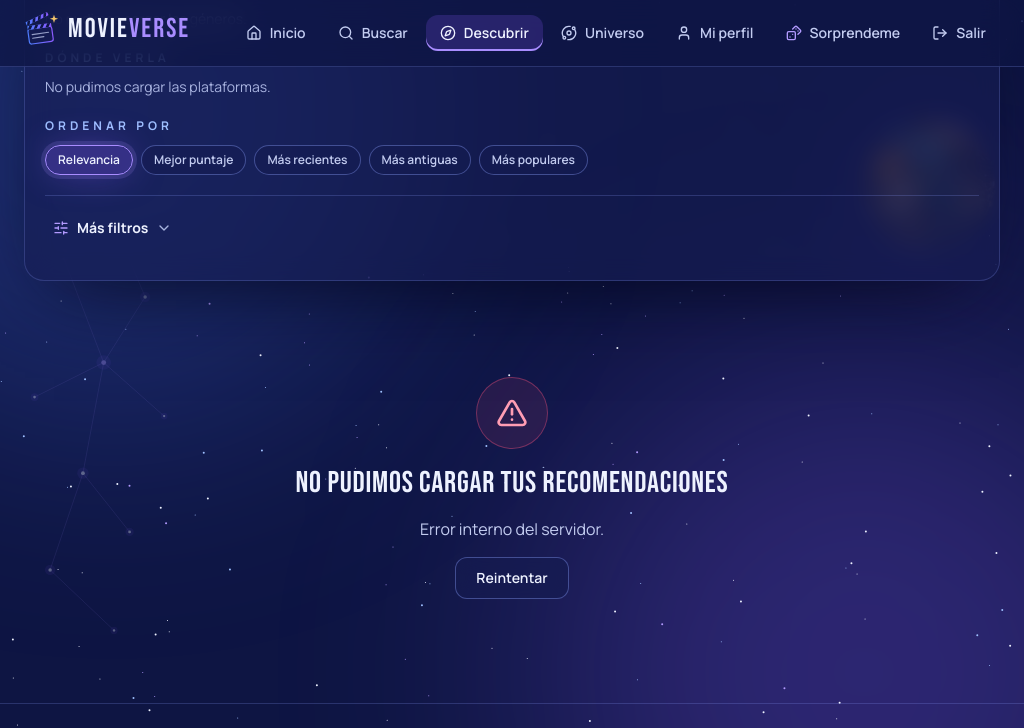
Scenario: DiscoverPage › shows an error state with retry
The image size is (1024, 728).
(page scrolled)
Expected: the heading "No pudimos cargar tus recomendaciones" is shown, [296,465,728,501]
Click the button "Reintentar".
click(512, 578)  # box [455,557,569,599]
(page scrolled)
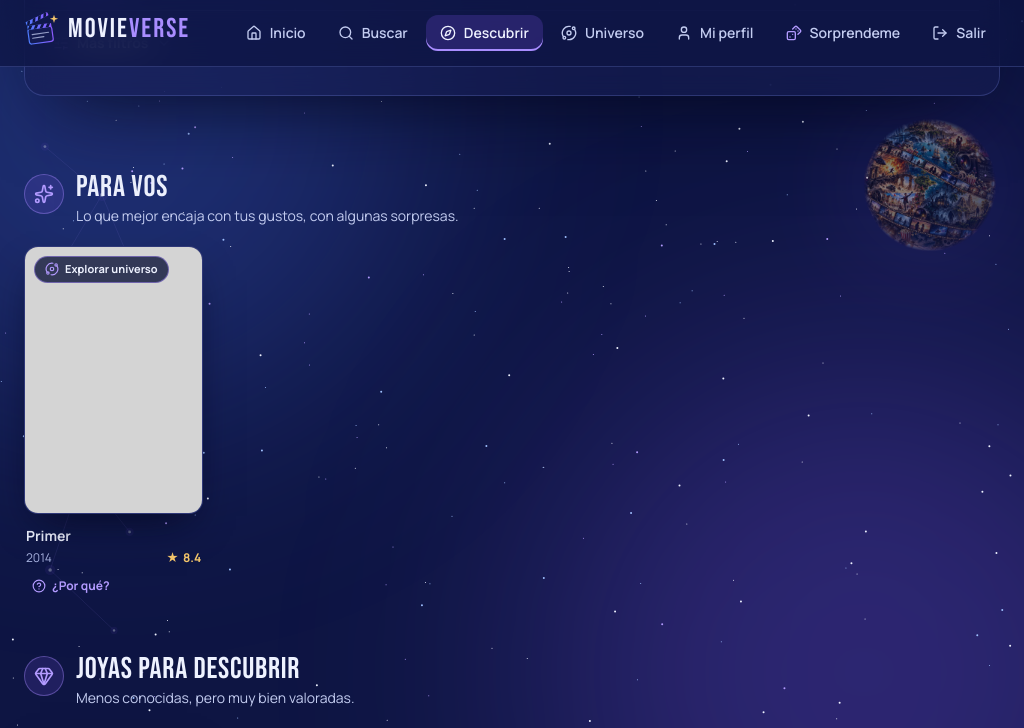
Result: the element "Para vos" is shown at [24,169,458,598]
